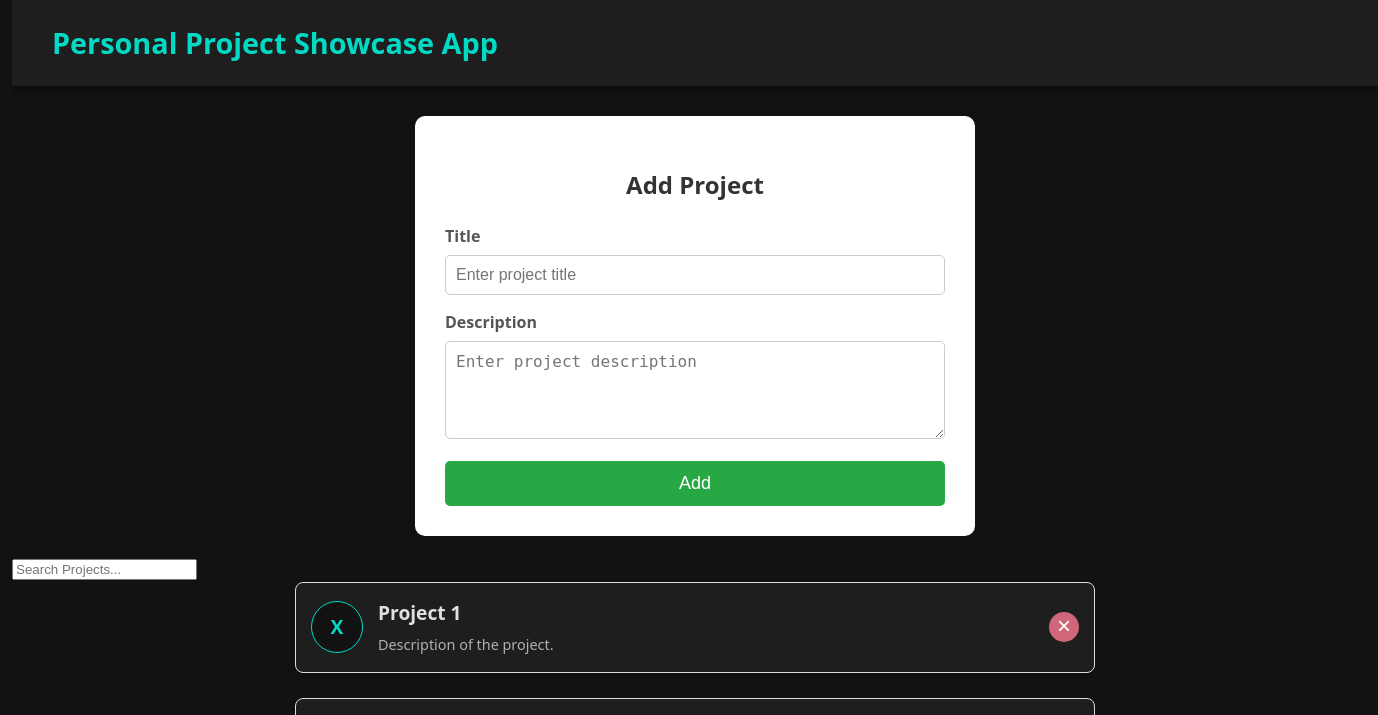
Test: can delete a project
Click delete button on first project
Click the button "×" in the row of "Project 1": (1064,627) [1049,612,1079,642]
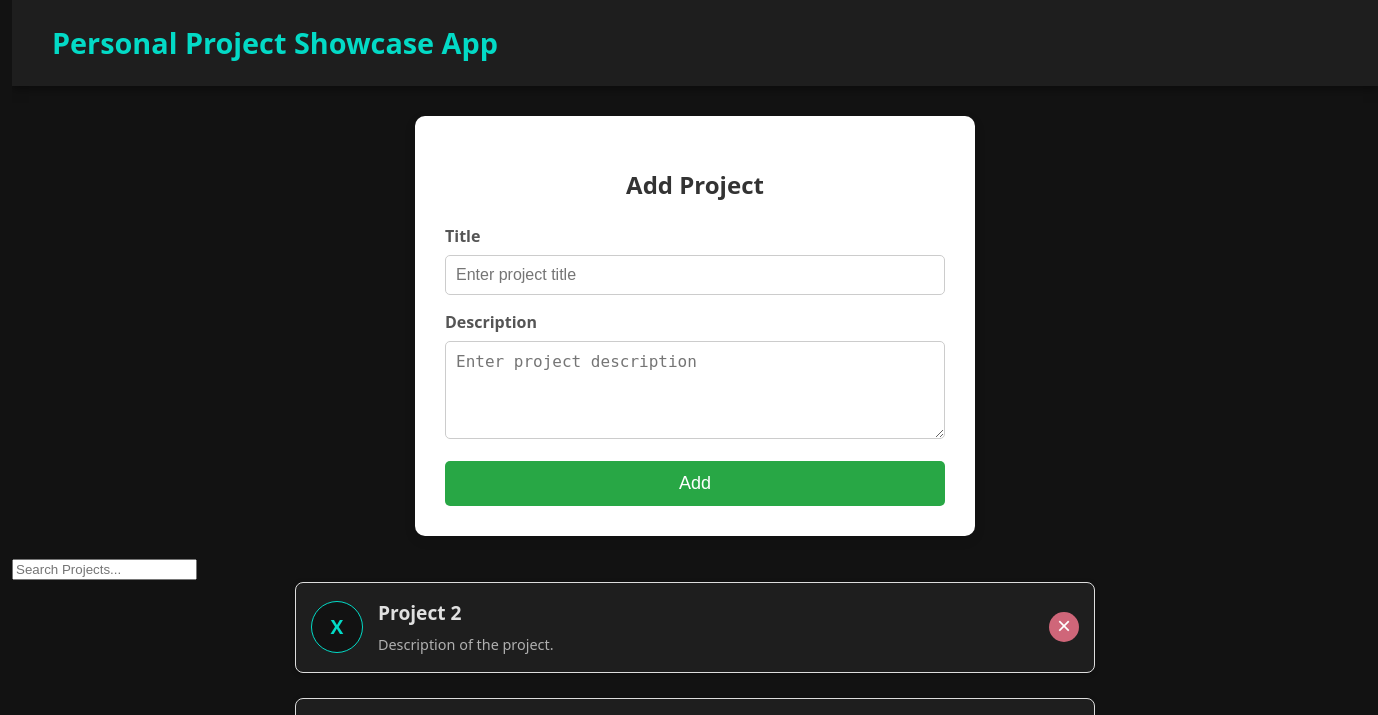
Expected: the heading "Project 2" is shown, [378,599,462,626]
Expected: the heading "Project 1" is gone
